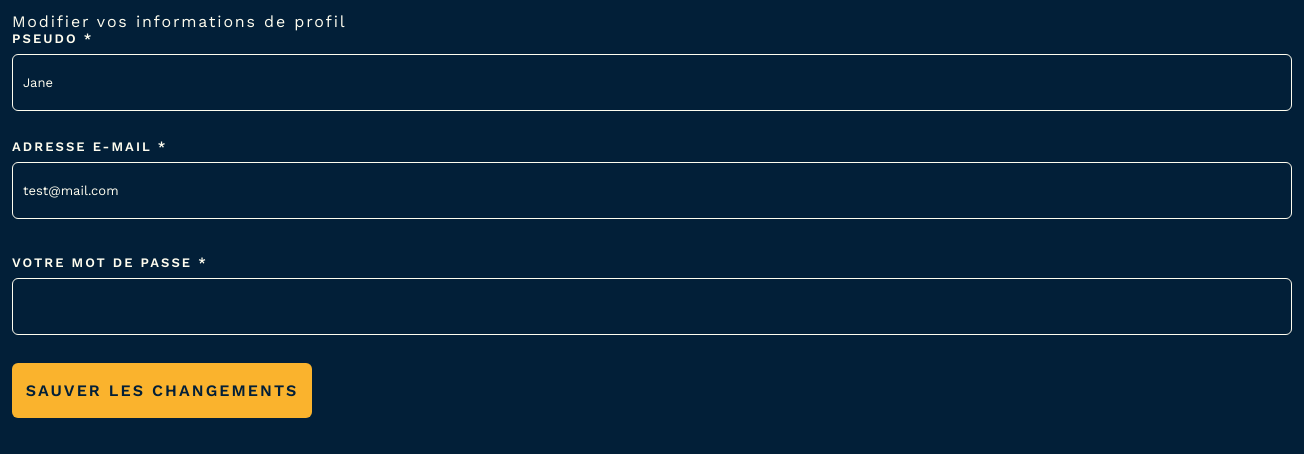
UpdateProfileForm component tests › should set pseudo error if field is empty
Step 1. Clear the field labelled "Pseudo *" → (652, 82), box [12,54,1292,111]
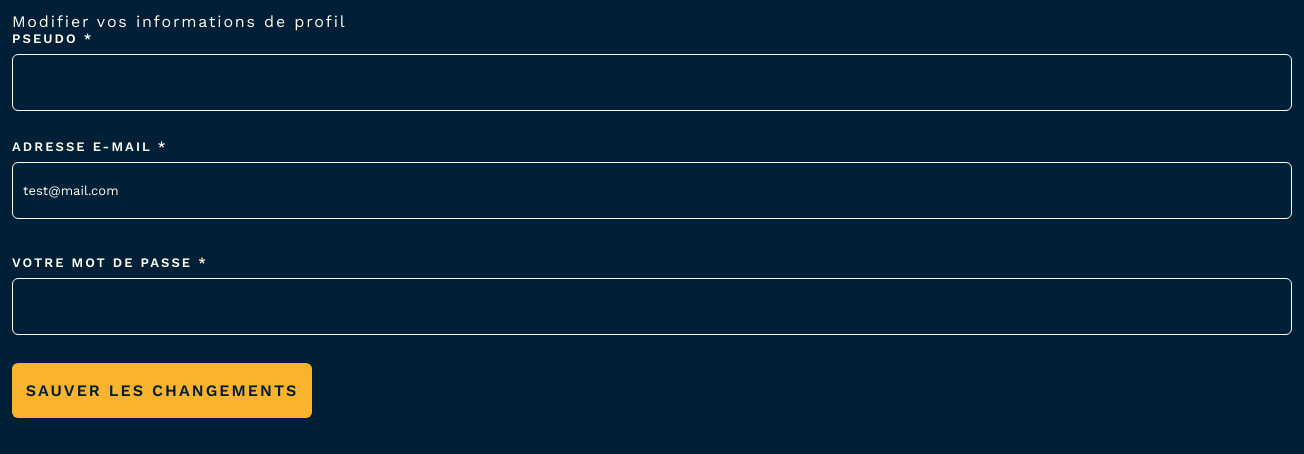
Step 2. Submit the form from the button "Sauver les changements", box [12,363,312,418]
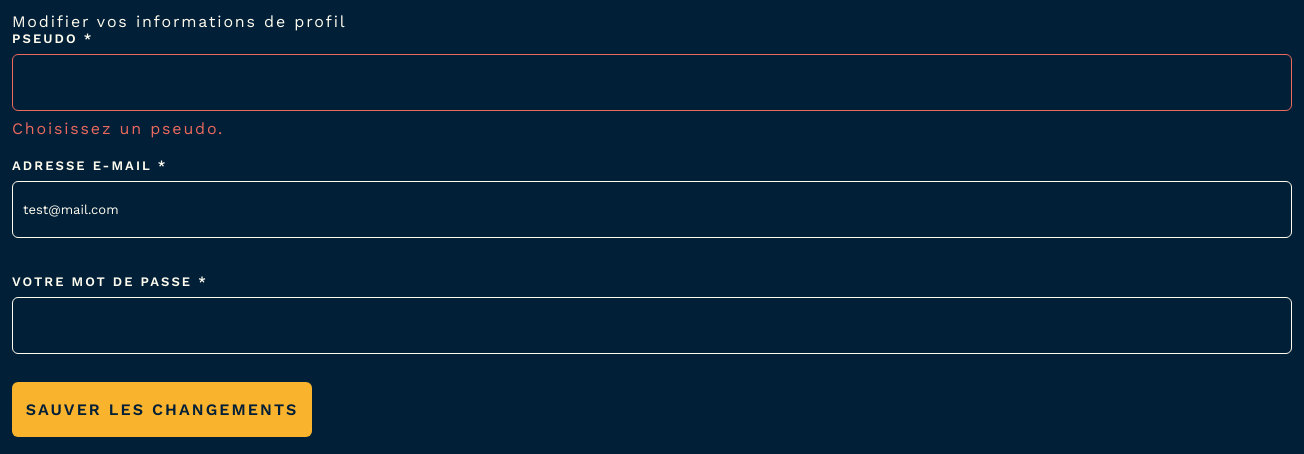
Check: the text "Choisissez un pseudo." is shown, box [12,119,224,138]
